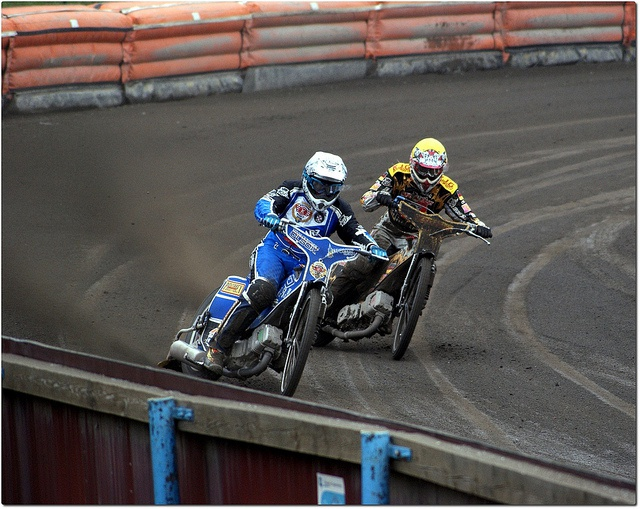non-vehicle: (155, 217, 390, 397), (311, 194, 492, 360)
